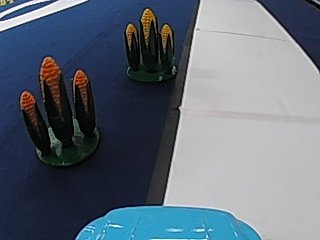corn: (21, 54, 102, 167), (120, 4, 178, 80)
